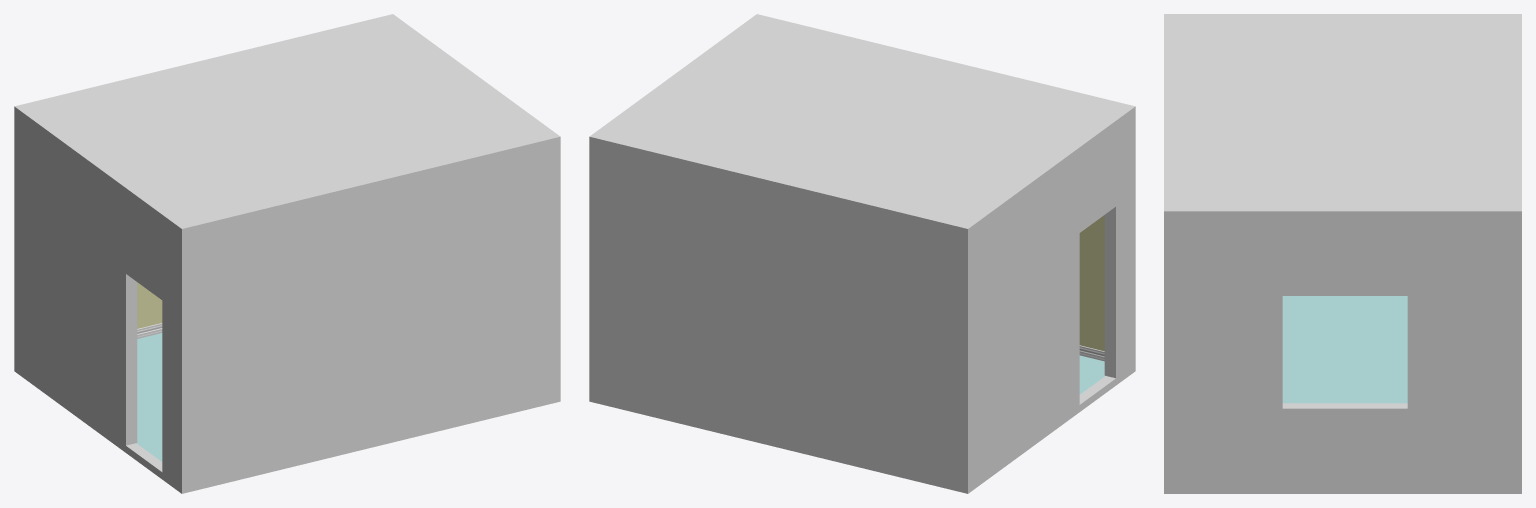
Rendered from BathroomRoomFinal.fbx.
3 views of the same model, side by side, from view 1: azimuth 30°, elevation 25°; view 2: azimuth 150°, elevation 25°; view 3: azimuth 270°, elevation 25° (orthographic). The views are drawn at different scales.
Visible parts, largest first — view 1: pCube77; view 2: pCube77; view 3: pCube77.
Part boxes in pixels (box(x1,y1,x2,y2)): pCube77: box(14, 14, 560, 493); pCube77: box(589, 14, 1135, 493); pCube77: box(1164, 14, 1521, 493).
Bounding box in the file's own units: 4.57 × 3.05 × 3.5.
